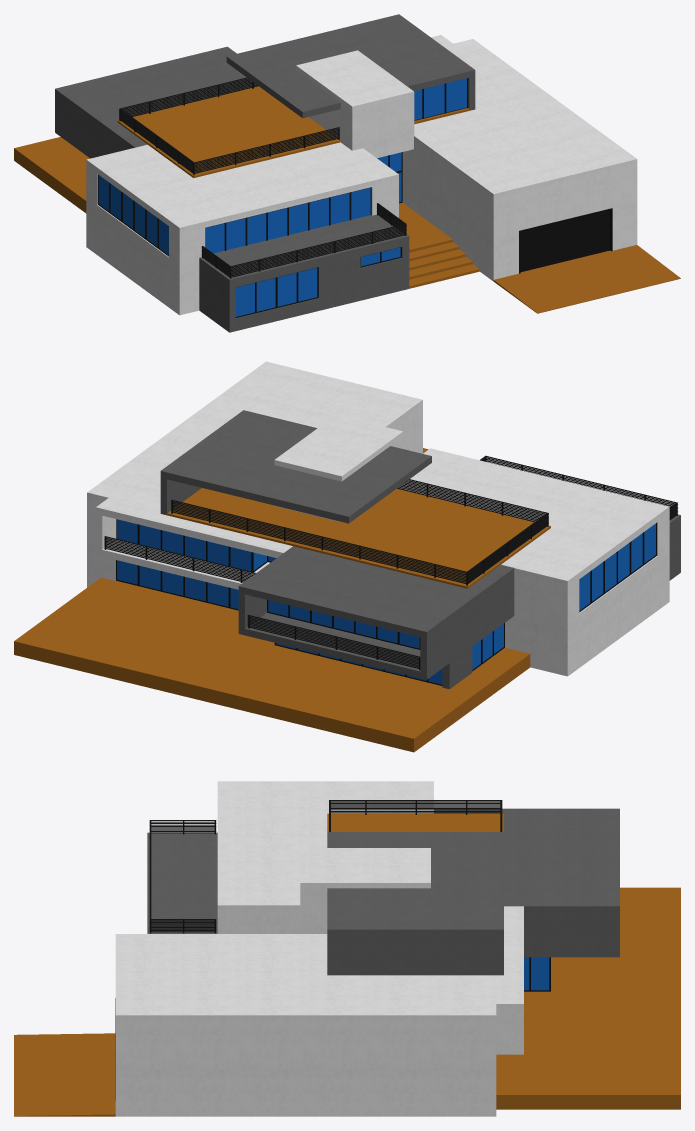
The model's file is House1.FBX.
3 views of the same model, one above another, from view 1: azimuth 30°, elevation 25°; view 2: azimuth 150°, elevation 25°; view 3: azimuth 270°, elevation 25° (orthographic). The views are drawn at different scales.
Visible parts, largest first — view 1: HOUSE1; view 2: HOUSE1; view 3: HOUSE1.
Part boxes in pixels (x1,y1,x2,y2): HOUSE1: [14, 14, 680, 332]; HOUSE1: [14, 361, 680, 752]; HOUSE1: [14, 781, 680, 1116].
Size of the model in its own units: 3464 by 1054 by 4171.
